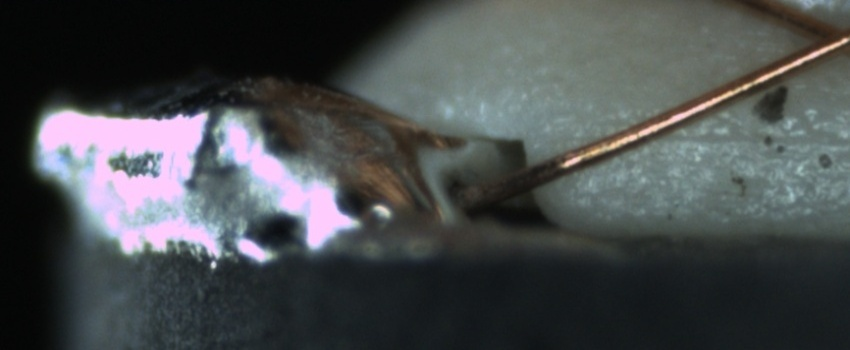CL: (779, 3, 848, 68)
DL: (626, 109, 850, 166)
